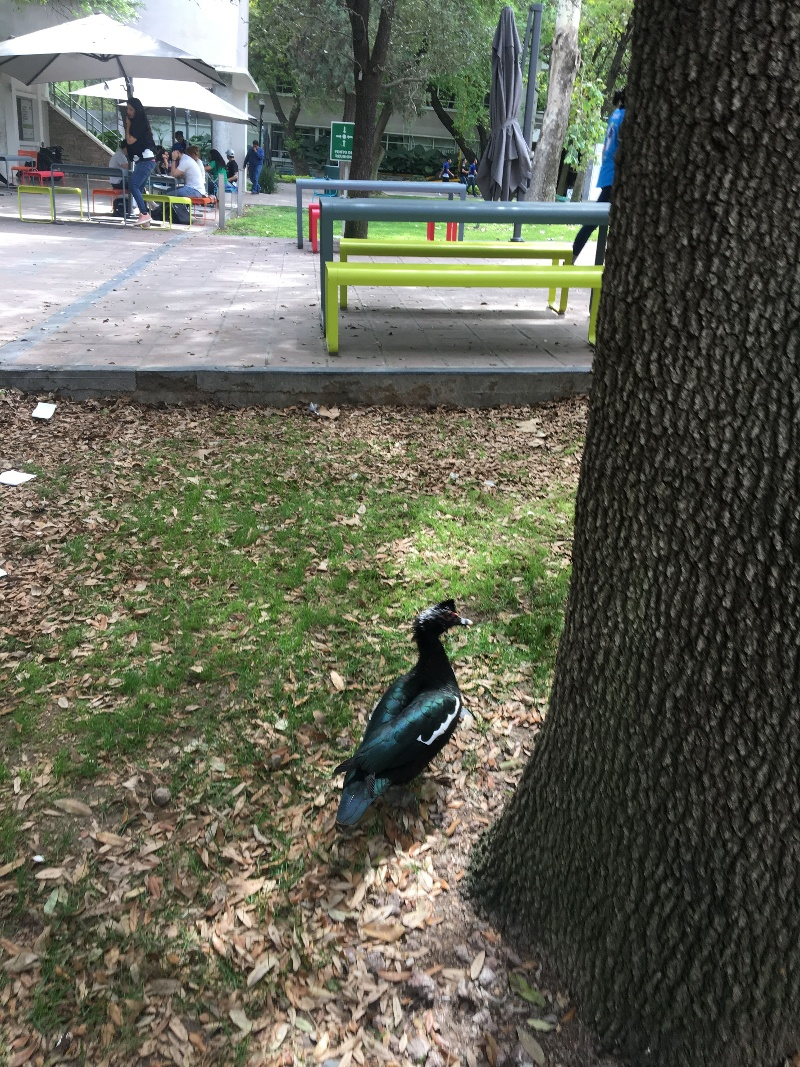pato: (340, 599, 469, 824)
